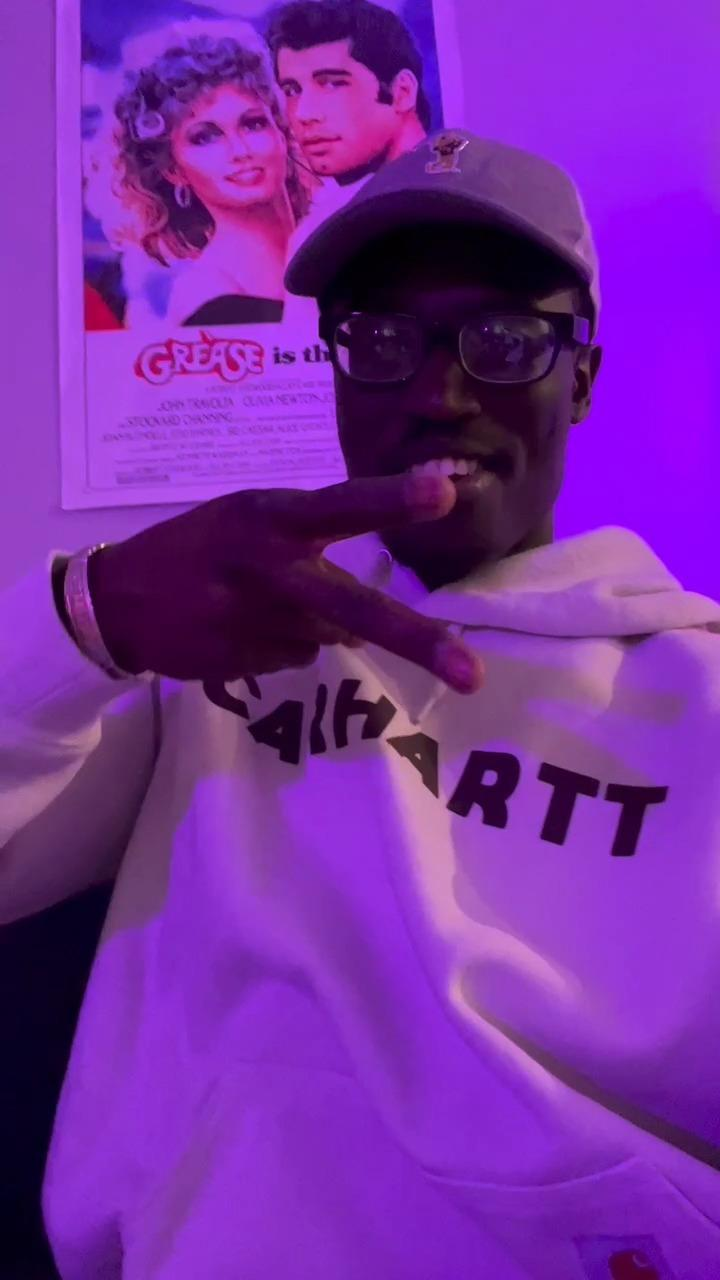Scissors: (114, 464, 491, 702)
